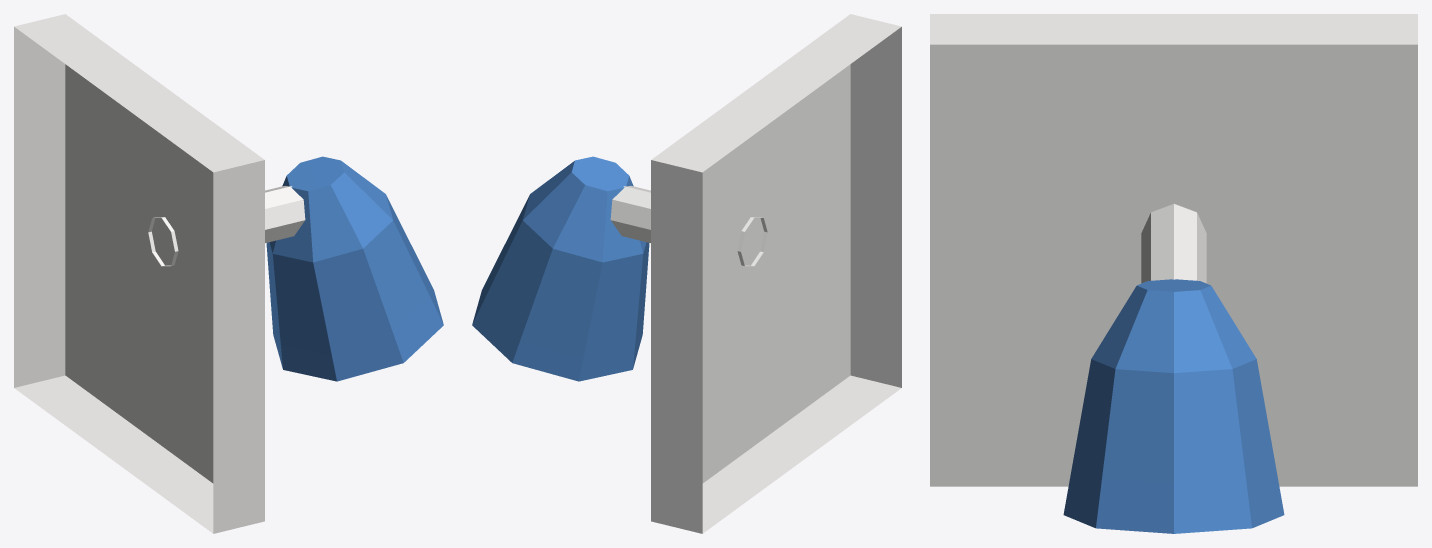
The model's file is Living_Room_lamp2.fbx.
3 views of the same model, side by side, from view 1: azimuth 30°, elevation 25°; view 2: azimuth 150°, elevation 25°; view 3: azimuth 270°, elevation 25° (orthographic). The views are drawn at different scales.
Parts seen in each view (by area): view 1: Living_Room_lamp2; view 2: Living_Room_lamp2; view 3: Living_Room_lamp2.
Boxes of the visible parts, x1,y1,x2,y2 form: Living_Room_lamp2: (14, 14, 443, 533); Living_Room_lamp2: (472, 14, 901, 533); Living_Room_lamp2: (930, 14, 1417, 533).
Size of the model in its own units: 18.76 by 20.23 by 20.23.
